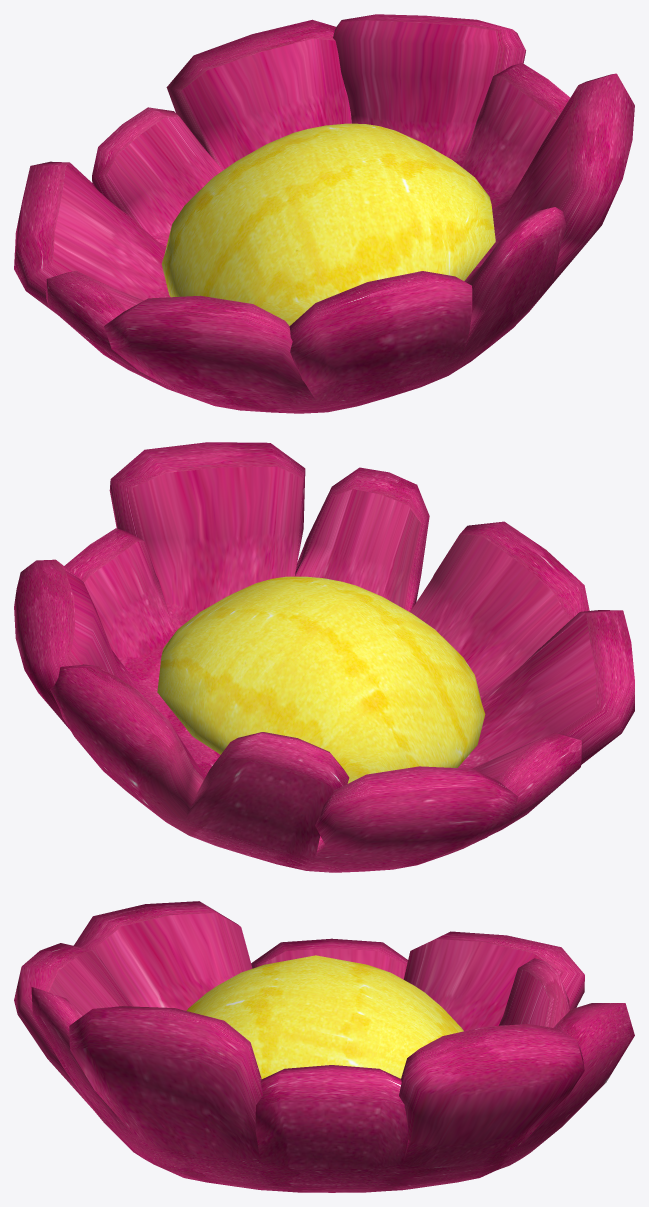
The model's file is fleur.fbx.
3 views of the same model, one above another, from view 1: azimuth 30°, elevation 25°; view 2: azimuth 150°, elevation 25°; view 3: azimuth 270°, elevation 25° (orthographic).
Parts seen in each view (by area): view 1: Cylinder.011, rock.006; view 2: Cylinder.011, rock.006; view 3: Cylinder.011, rock.006.
Boxes of the visible parts, x1,y1,x2,y2 form: Cylinder.011: [14, 14, 634, 413]; rock.006: [161, 123, 495, 325]; Cylinder.011: [14, 442, 634, 872]; rock.006: [157, 576, 485, 783]; Cylinder.011: [14, 901, 634, 1192]; rock.006: [186, 955, 463, 1078].
Size of the model in its own units: 148 by 73.82 by 153.
2 materials, 2 textured.
